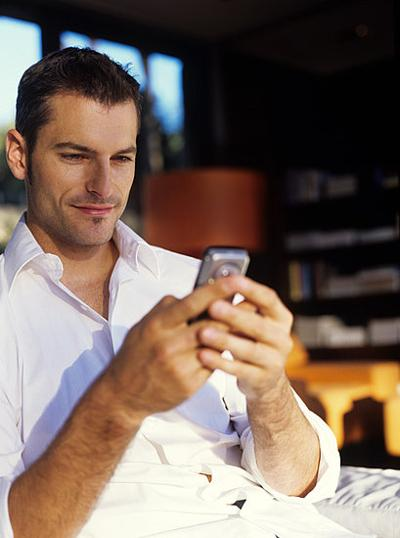person: (3, 49, 353, 536)
